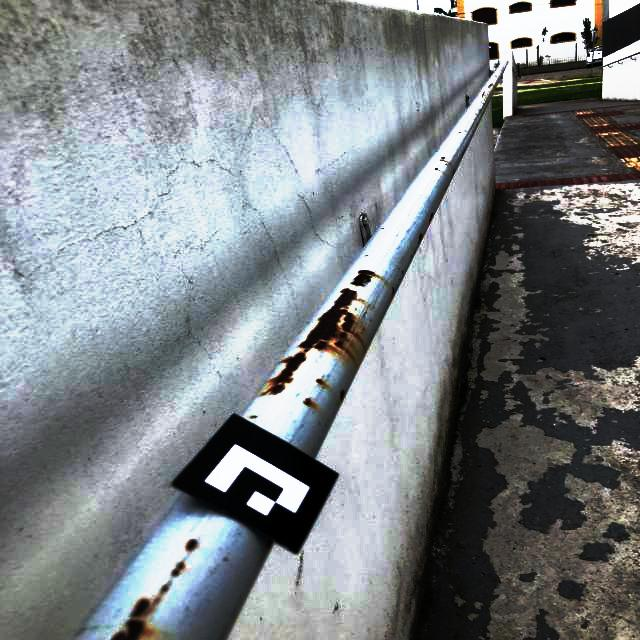Corrosion: (260, 288, 366, 396), (111, 618, 149, 640), (129, 595, 161, 618), (350, 269, 376, 287), (172, 561, 185, 576), (185, 539, 198, 551), (303, 398, 313, 407), (316, 378, 326, 386), (266, 539, 274, 548), (428, 212, 434, 223), (161, 585, 170, 592), (418, 232, 423, 243), (340, 389, 344, 401), (439, 157, 448, 162), (487, 83, 493, 88), (250, 415, 257, 419), (393, 286, 396, 295), (434, 168, 441, 171), (482, 91, 485, 98), (475, 113, 479, 116), (466, 96, 467, 107), (462, 151, 464, 156), (445, 163, 448, 166), (452, 171, 454, 175), (457, 132, 461, 134), (476, 123, 478, 126), (464, 130, 467, 132), (479, 119, 481, 121), (483, 103, 485, 105), (464, 149, 465, 152), (468, 96, 469, 99), (467, 121, 469, 122), (480, 109, 481, 111), (487, 102, 488, 104), (492, 92, 493, 94), (495, 75, 497, 76)
